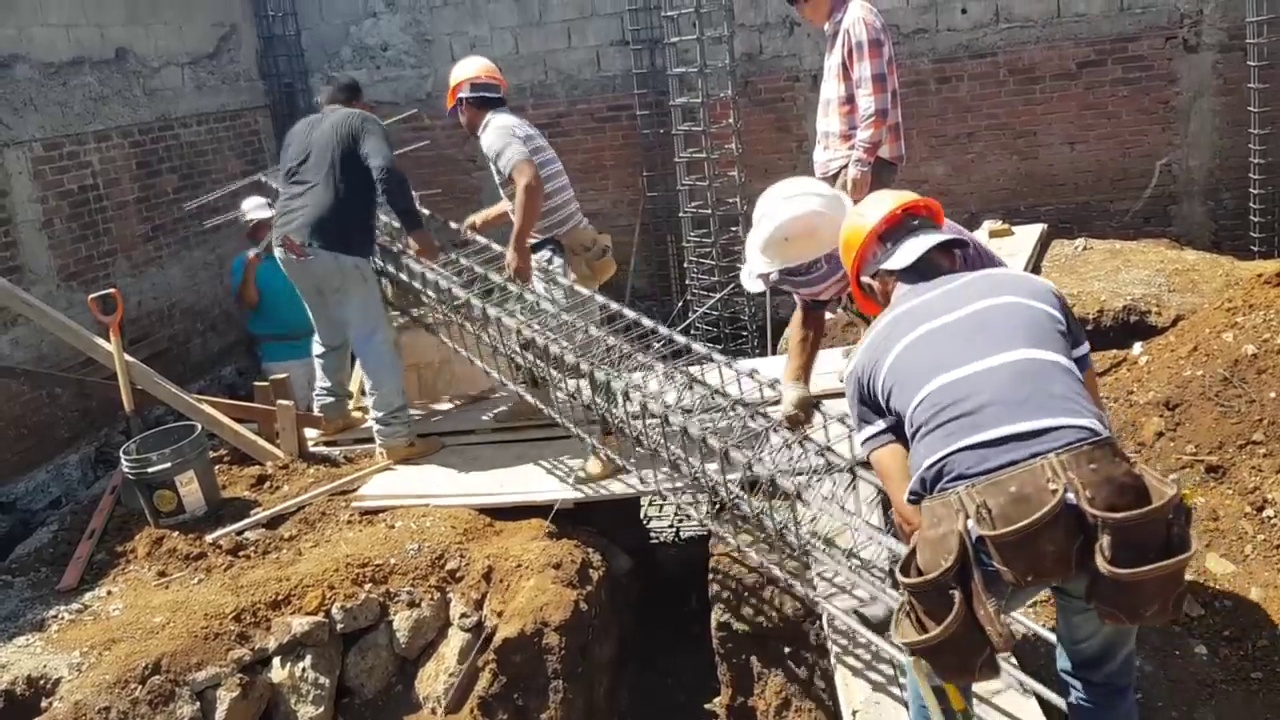helmet: (844, 188, 955, 304), (748, 174, 850, 271), (438, 54, 504, 104), (240, 199, 272, 222)
helmet-off: (306, 64, 370, 117), (778, 0, 848, 40)
helmet-on: (846, 187, 963, 324), (741, 173, 850, 312), (440, 51, 513, 139), (240, 199, 273, 252)
person: (841, 192, 1153, 720), (271, 64, 438, 469), (437, 52, 615, 307), (741, 179, 879, 425), (780, 0, 908, 196), (218, 193, 316, 419)
